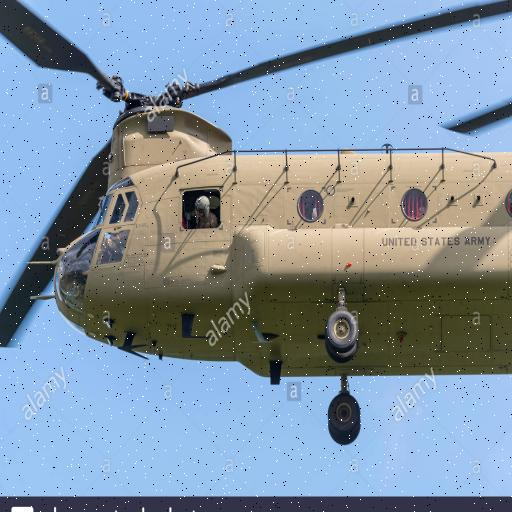helicopter: (1, 1, 512, 446)
